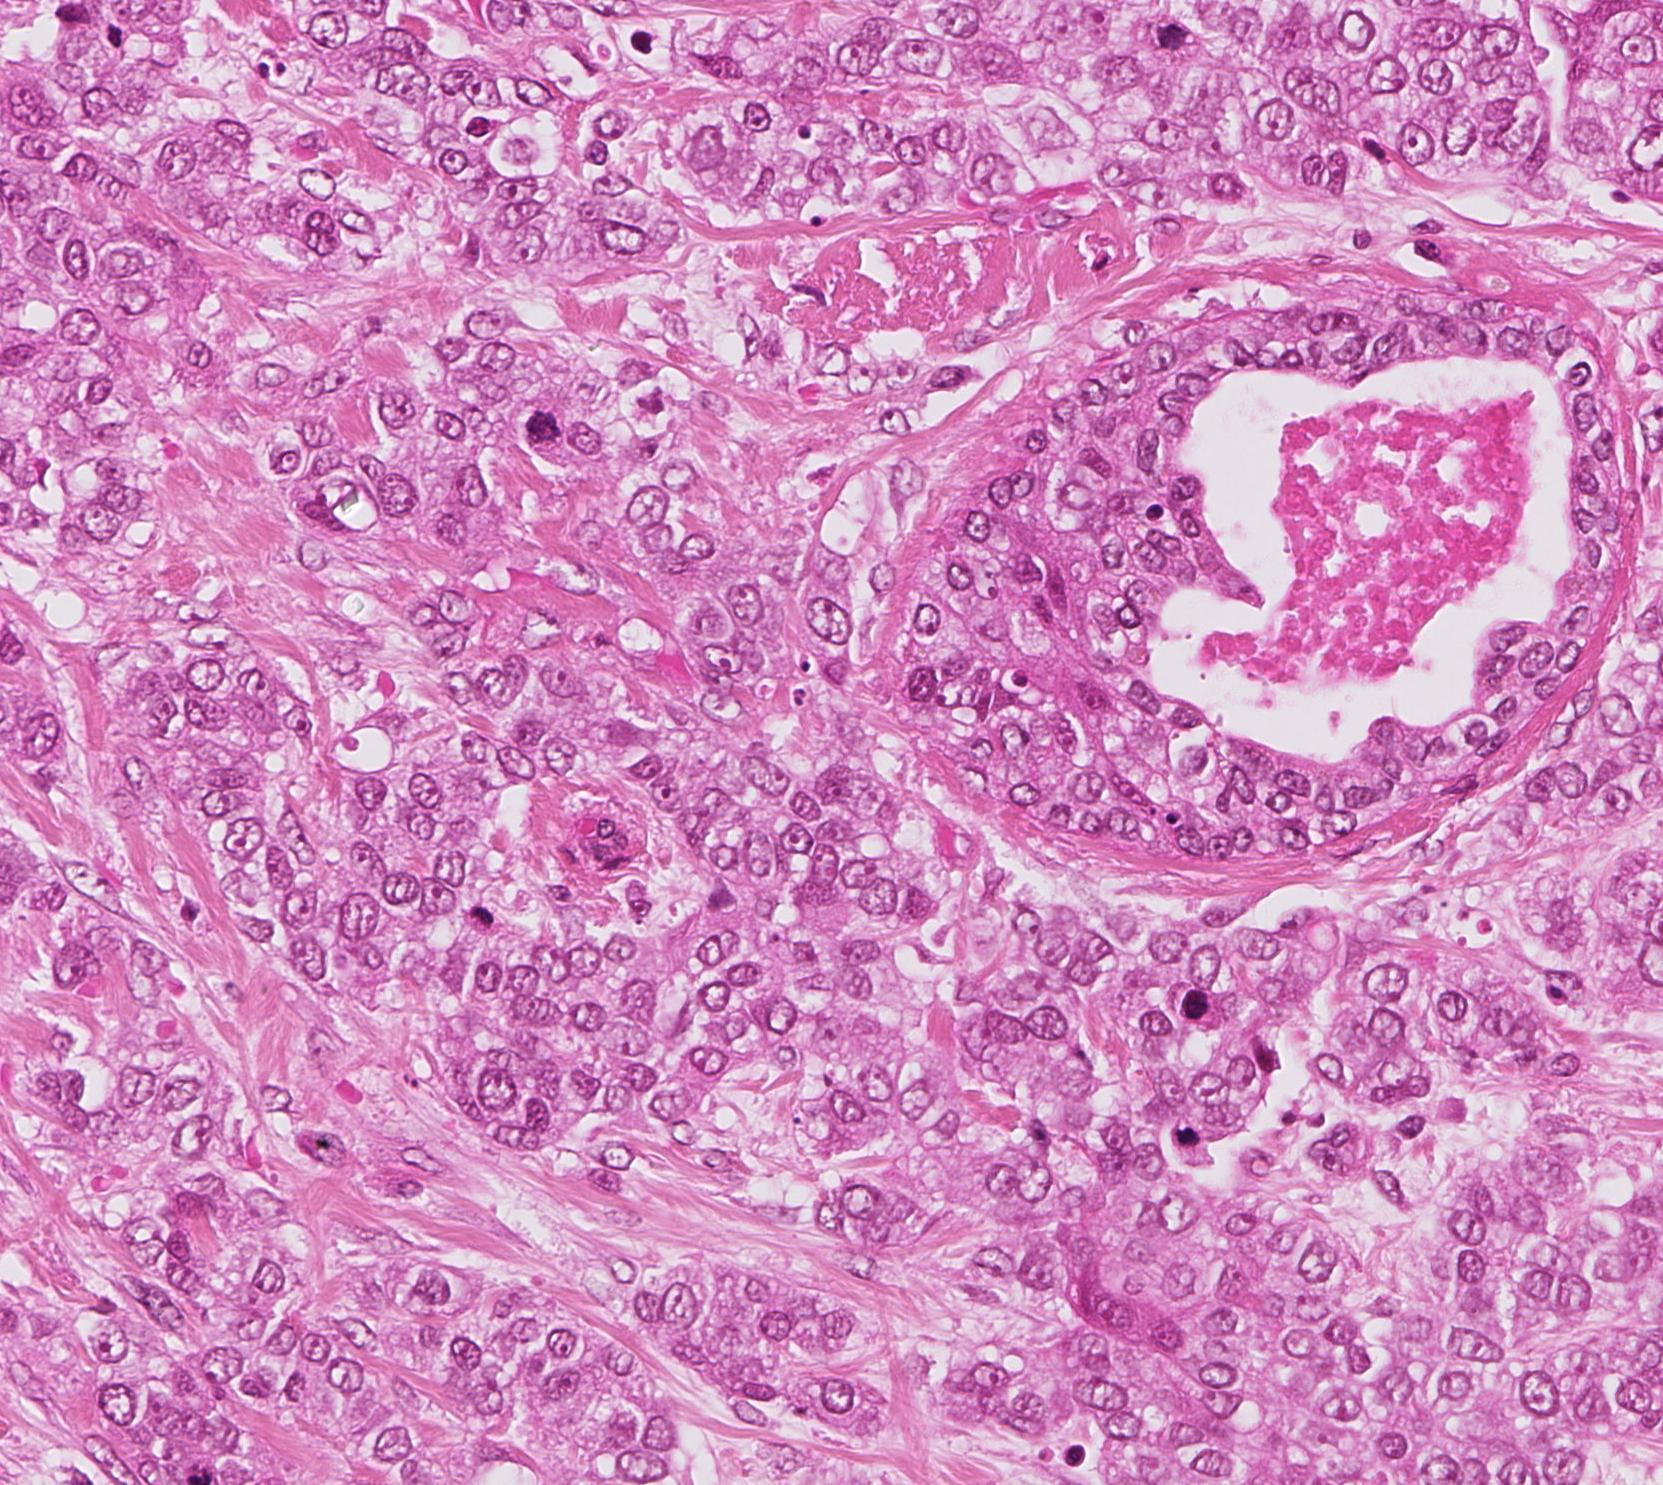mitosis: (513, 386, 573, 446), (1135, 0, 1196, 59)
